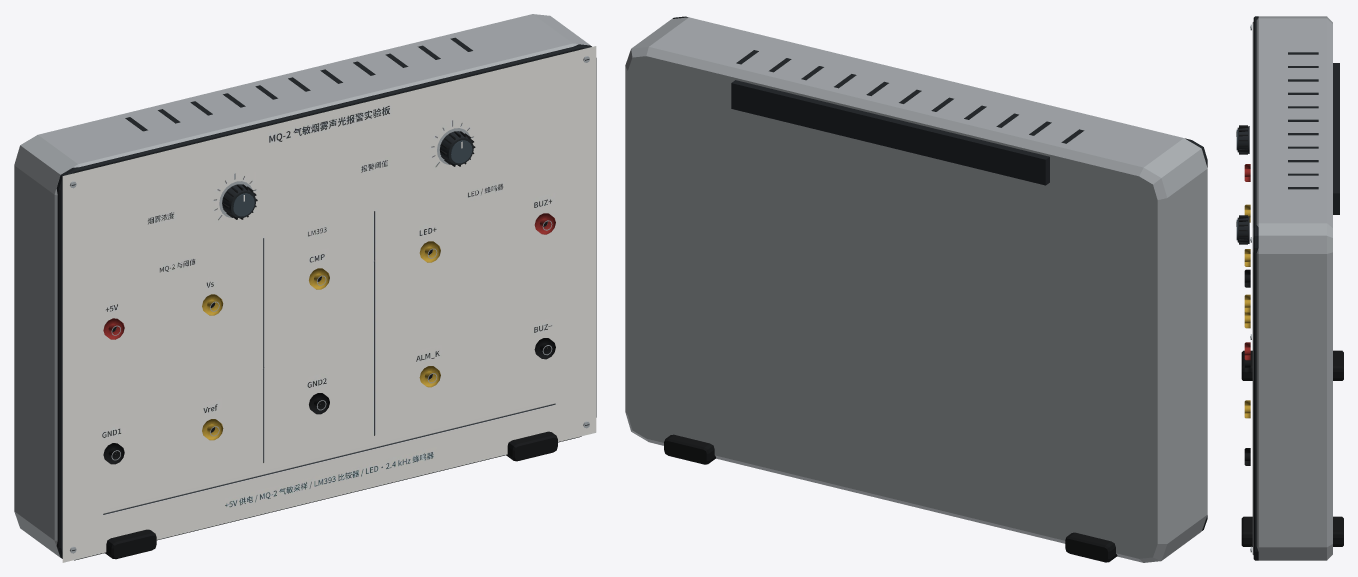
File: module.glb
3 views of the same model, side by side, from view 1: azimuth 30°, elevation 25°; view 2: azimuth 150°, elevation 25°; view 3: azimuth 270°, elevation 25° (orthographic). The views are drawn at different scales.
Parts seen in each view (by area): view 1: PANEL_silkscreen, STATIC_paint, STATIC_metal, MOVING_SMOKE_PPM_paint, MOVING_VREF_POT_paint; view 2: STATIC_paint; view 3: STATIC_paint, MOVING_SMOKE_PPM_paint, MOVING_VREF_POT_paint.
Part boxes in pixels (x1=…): PANEL_silkscreen: x1=62, y1=46, x2=596, y2=562; STATIC_paint: x1=14, y1=14, x2=596, y2=560; STATIC_metal: x1=70, y1=56, x2=589, y2=553; MOVING_SMOKE_PPM_paint: x1=222, y1=184, x2=257, y2=219; MOVING_VREF_POT_paint: x1=440, y1=131, x2=475, y2=166; STATIC_paint: x1=625, y1=16, x2=1207, y2=562; STATIC_paint: x1=1241, y1=16, x2=1343, y2=560; MOVING_SMOKE_PPM_paint: x1=1236, y1=125, x2=1249, y2=154; MOVING_VREF_POT_paint: x1=1236, y1=215, x2=1249, y2=244.
Bounding box in the file's own units: 0.264 × 0.184 × 0.0536.
5 materials, 1 textured.
